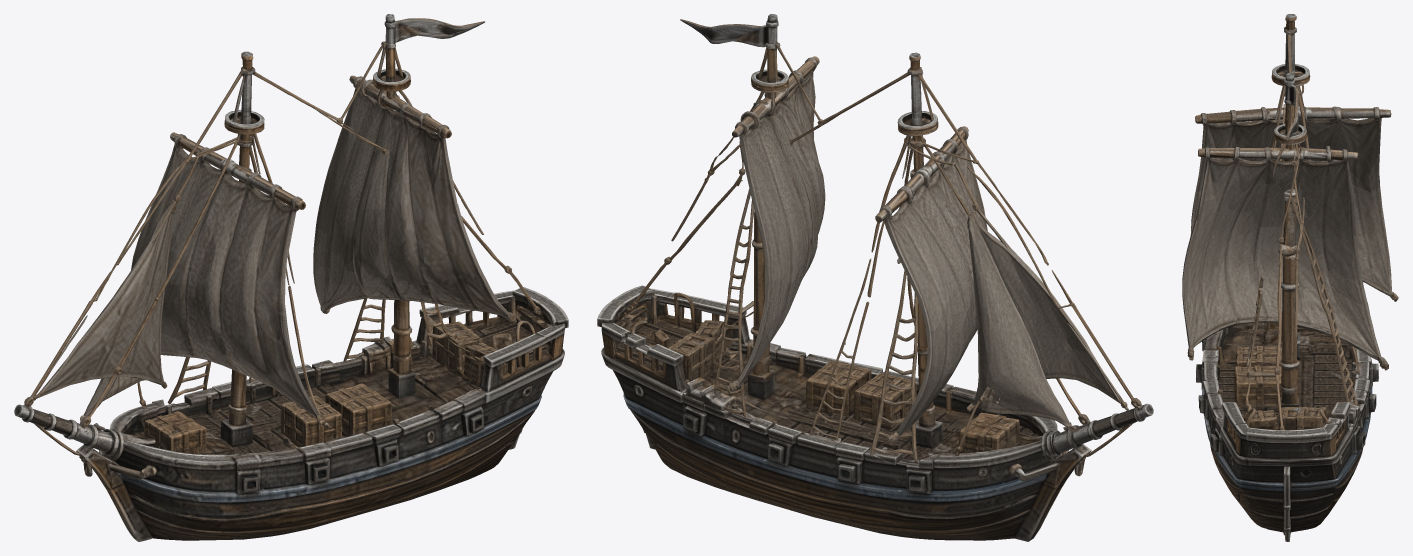
The model's file is merchant_brig_2921.glb.
3 renders of one model, left to right at view 1: azimuth 30°, elevation 25°; view 2: azimuth 150°, elevation 25°; view 3: azimuth 270°, elevation 25°, orthographic. The views are drawn at different scales.
Parts seen in each view (by area): view 1: output_unwrapped; view 2: output_unwrapped; view 3: output_unwrapped.
Boxes of the visible parts, x1,y1,x2,y2 form: output_unwrapped: (14,14,568,541); output_unwrapped: (597,14,1153,541); output_unwrapped: (1182,14,1398,541).
Bounding box in the file's own units: 1.9 × 1.56 × 0.7388.
Materials: 1 (1 with a texture image).
